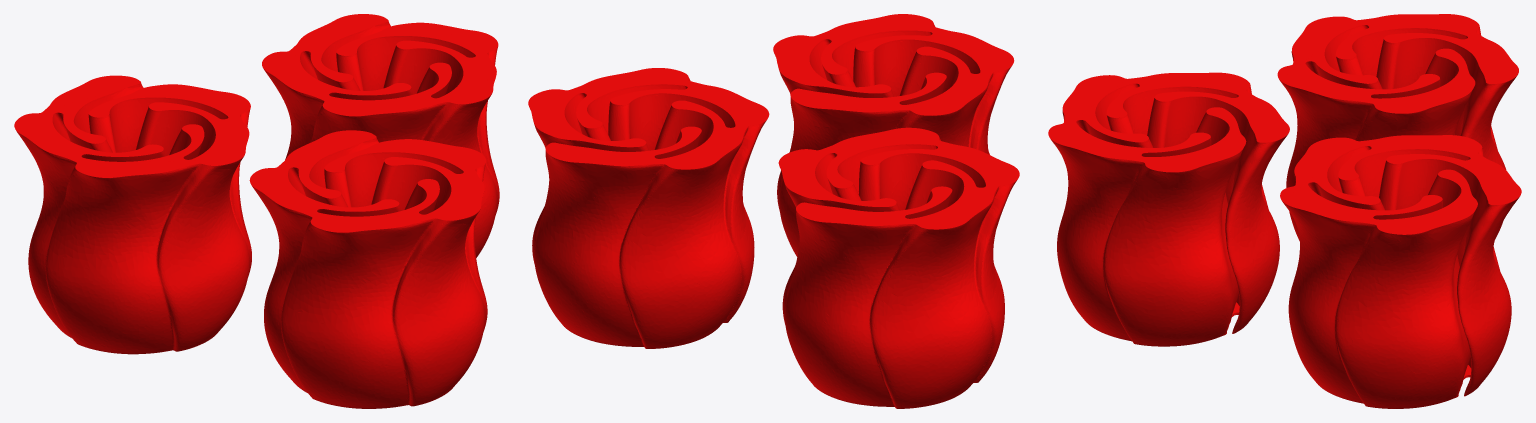
File: rose.glb
3 renders of one model, left to right at view 1: azimuth 30°, elevation 25°; view 2: azimuth 150°, elevation 25°; view 3: azimuth 270°, elevation 25°, orthographic.
Parts seen in each view (by area): view 1: rose.stl_fil1 (×3); view 2: rose.stl_fil1 (×3); view 3: rose.stl_fil1 (×3).
Part boxes in pixels (left/top/right/bottom): rose.stl_fil1 (×3): left=14, top=14, right=499, bottom=408; rose.stl_fil1 (×3): left=528, top=14, right=1019, bottom=408; rose.stl_fil1 (×3): left=1048, top=14, right=1521, bottom=408.
Bounding box in the file's own units: 0.1089 × 0.0438 × 0.0986.
